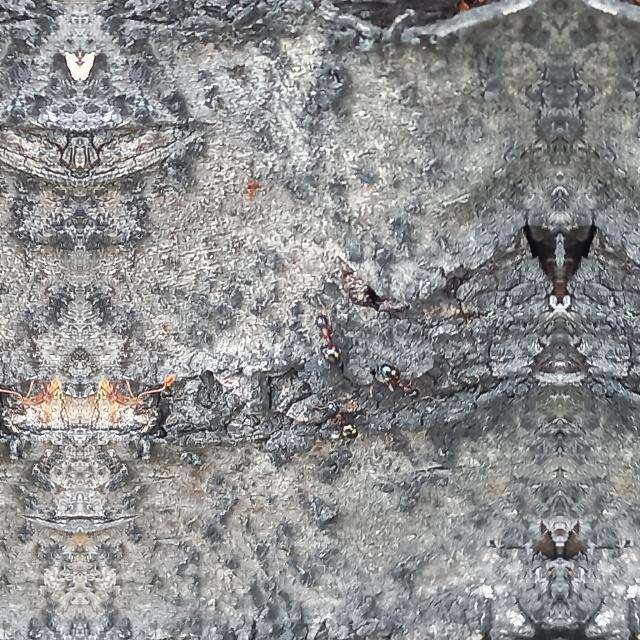Dolichoderus: (374, 349, 426, 408), (307, 301, 348, 371), (324, 398, 362, 444)
